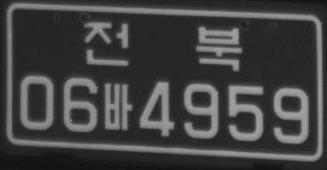0: (18, 74, 54, 130)
4: (139, 80, 175, 137)
5: (227, 83, 264, 141)
6: (62, 76, 97, 130)
9: (182, 81, 219, 140), (272, 87, 310, 143)
바: (101, 81, 133, 131)
전북_D: (84, 21, 242, 71)
